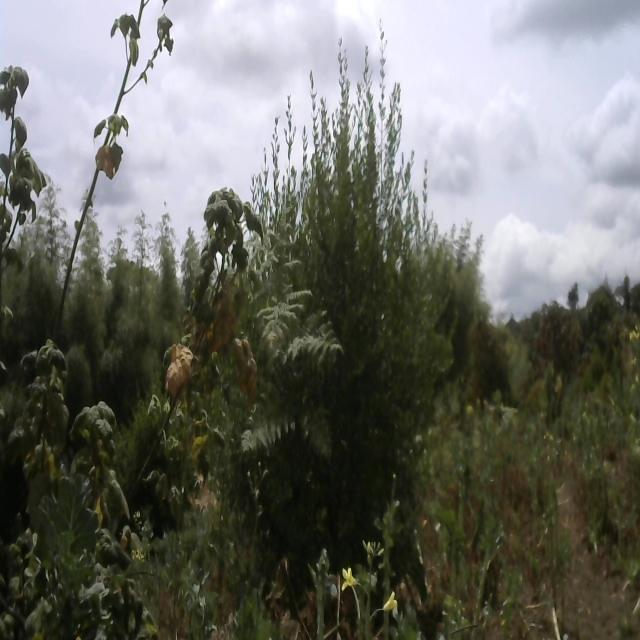Salix alba: (245, 9, 438, 576)
other: (0, 0, 236, 576)
